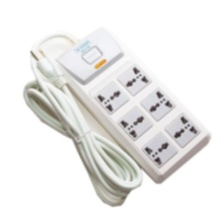three_eye_plug: (48, 22, 213, 190)
